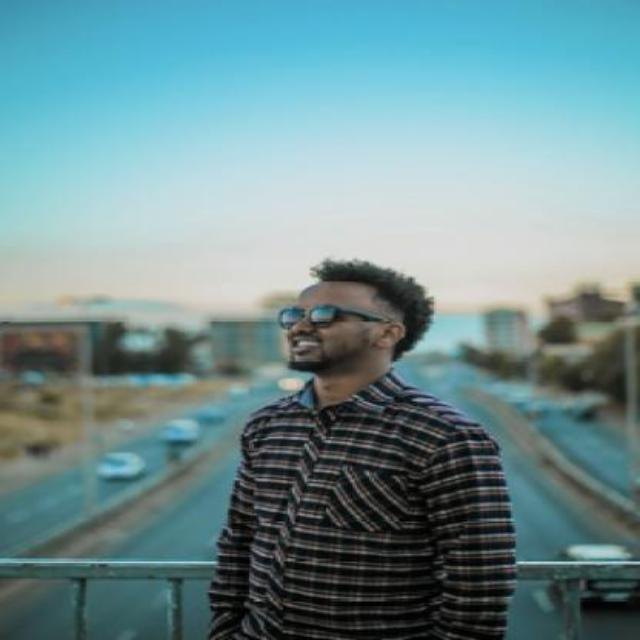sunglasses: (276, 302, 398, 332)
